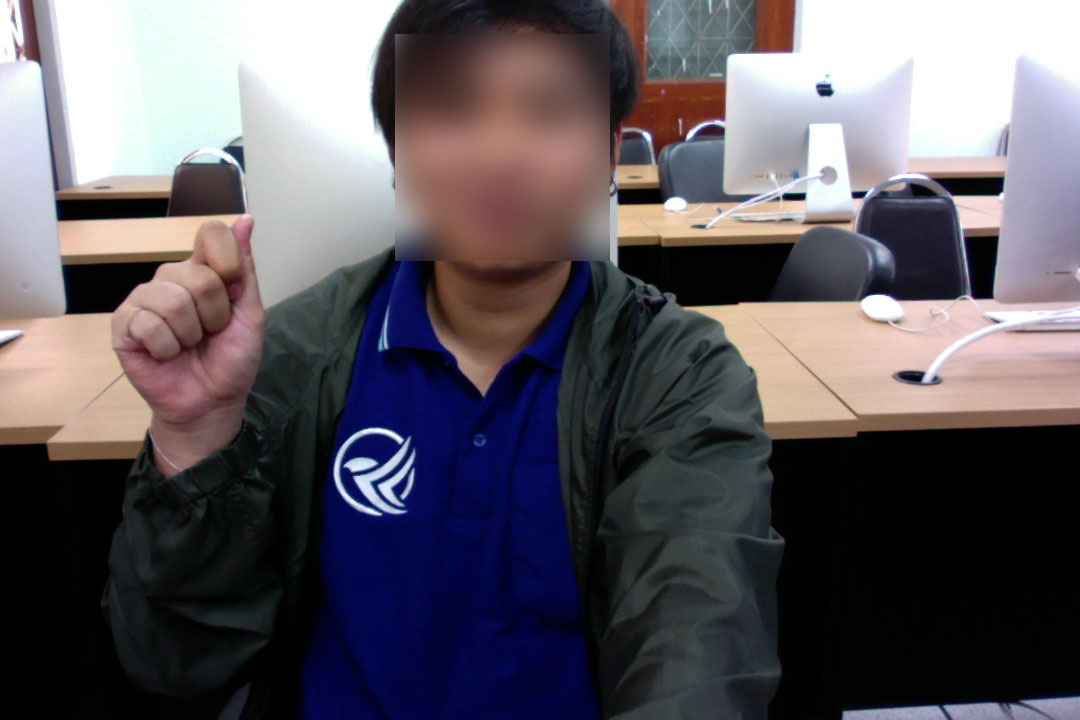or: (105, 200, 269, 438)
